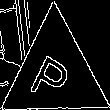P_NE: (30, 42, 79, 104)
